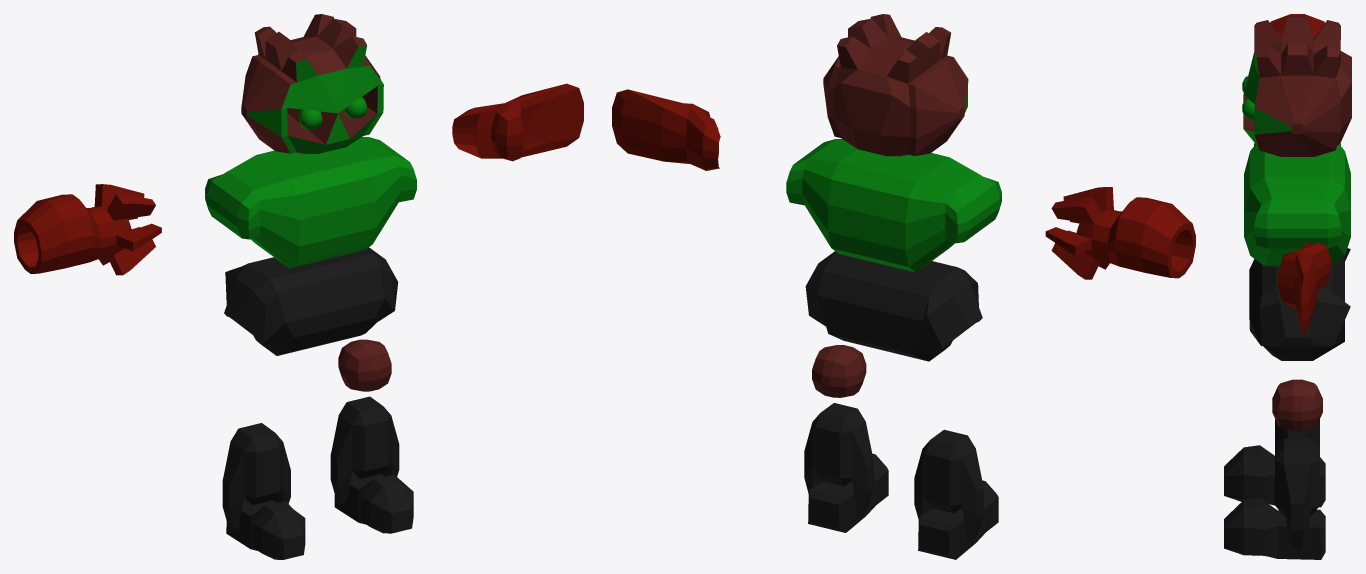
3 renders of one model, left to right at view 1: azimuth 30°, elevation 25°; view 2: azimuth 150°, elevation 25°; view 3: azimuth 270°, elevation 25°, orthographic.
Visible parts, largest first — view 1: _Chest, _Head, _Hip, _Ebowl2, _Ebowl3, _Boot1, _Boot, _Foot1, _Foot, _Knees1; view 2: _Chest, _Head, _Hip, _Ebowl2, _Ebowl3, _Boot, _Boot1, _Foot, _Foot1, _Knees1; view 3: _Head, _Chest, _Hip, _Foot1, _Boot1, _Ebowl3, _Foot, _Knees1, _Boot, _Ebowl2, Eye.
Part boxes in pixels (left/top/right/bottom): _Chest: left=205, top=137, right=416, bottom=268; _Head: left=241, top=14, right=383, bottom=154; _Hip: left=224, top=247, right=398, bottom=355; _Ebowl2: left=14, top=184, right=161, bottom=275; _Ebowl3: left=452, top=83, right=583, bottom=161; _Boot1: left=330, top=396, right=399, bottom=504; _Boot: left=222, top=423, right=290, bottom=530; _Foot1: left=334, top=473, right=413, bottom=533; _Foot: left=226, top=499, right=305, bottom=559; _Knees1: left=338, top=339, right=391, bottom=391; _Chest: left=786, top=139, right=1001, bottom=272; _Head: left=823, top=14, right=968, bottom=156; _Hip: left=805, top=251, right=982, bottom=361; _Ebowl2: left=1045, top=187, right=1195, bottom=279; _Ebowl3: left=612, top=89, right=720, bottom=170; _Boot: left=914, top=429, right=983, bottom=544; _Boot1: left=804, top=403, right=873, bottom=517; _Foot: left=918, top=480, right=998, bottom=559; _Foot1: left=808, top=453, right=888, bottom=532; _Knees1: left=812, top=345, right=866, bottom=397; _Head: left=1243, top=16, right=1351, bottom=156; _Chest: left=1244, top=143, right=1350, bottom=266; _Hip: left=1249, top=248, right=1350, bottom=360; _Foot1: left=1224, top=498, right=1325, bottom=559; _Boot1: left=1275, top=438, right=1319, bottom=551; _Ebowl3: left=1277, top=243, right=1331, bottom=338; _Foot: left=1224, top=445, right=1325, bottom=507; _Knees1: left=1272, top=379, right=1322, bottom=431; _Boot: left=1275, top=419, right=1319, bottom=448; _Ebowl2: left=1270, top=14, right=1324, bottom=36; Eye: left=1242, top=98, right=1254, bottom=119.
Size of the model in its own units: 41.28 by 35.03 by 8.2.
1 material, 1 textured.
